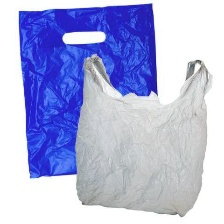plastic_bag: (14, 0, 162, 180), (68, 50, 217, 220)
